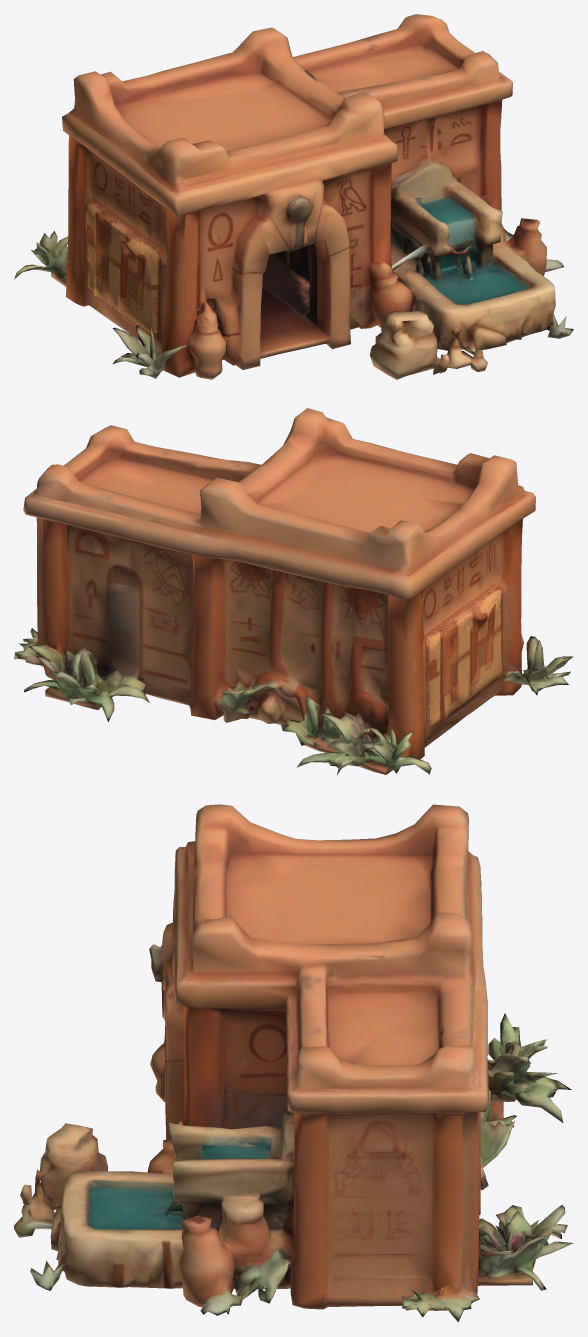
Rendered from mercadinho_egipcio.glb.
3 renders of one model, top to bottom at view 1: azimuth 30°, elevation 25°; view 2: azimuth 150°, elevation 25°; view 3: azimuth 270°, elevation 25°, orthographic. The views are drawn at different scales.
Size of the model in its own units: 2 by 0.9597 by 1.69.
Materials: 1 (1 with a texture image).
